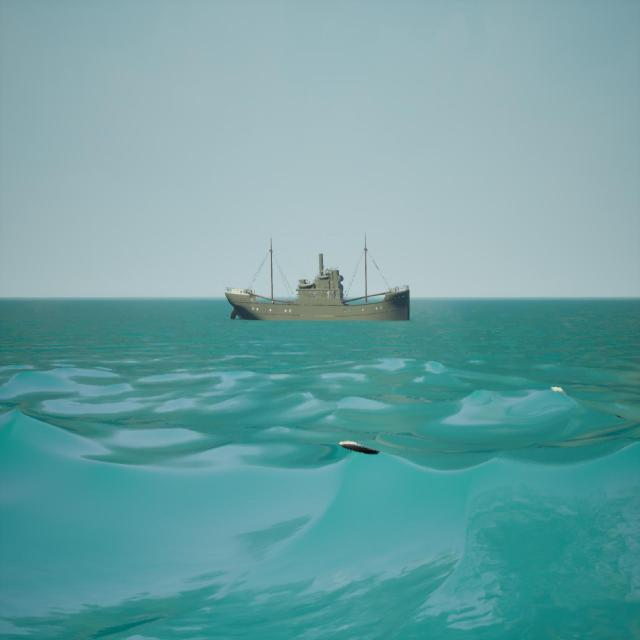fishing ship: (228, 239, 413, 323)
